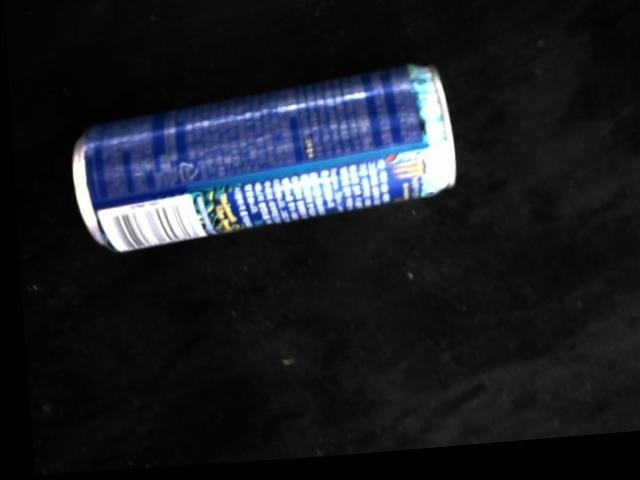can: (68, 68, 456, 256)
